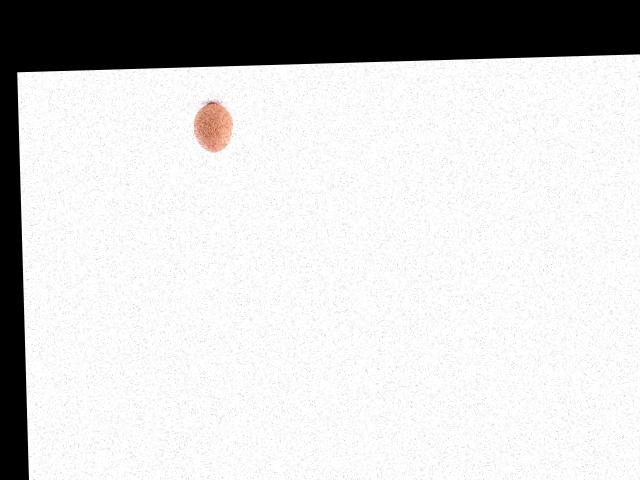egg: (191, 102, 233, 152)
